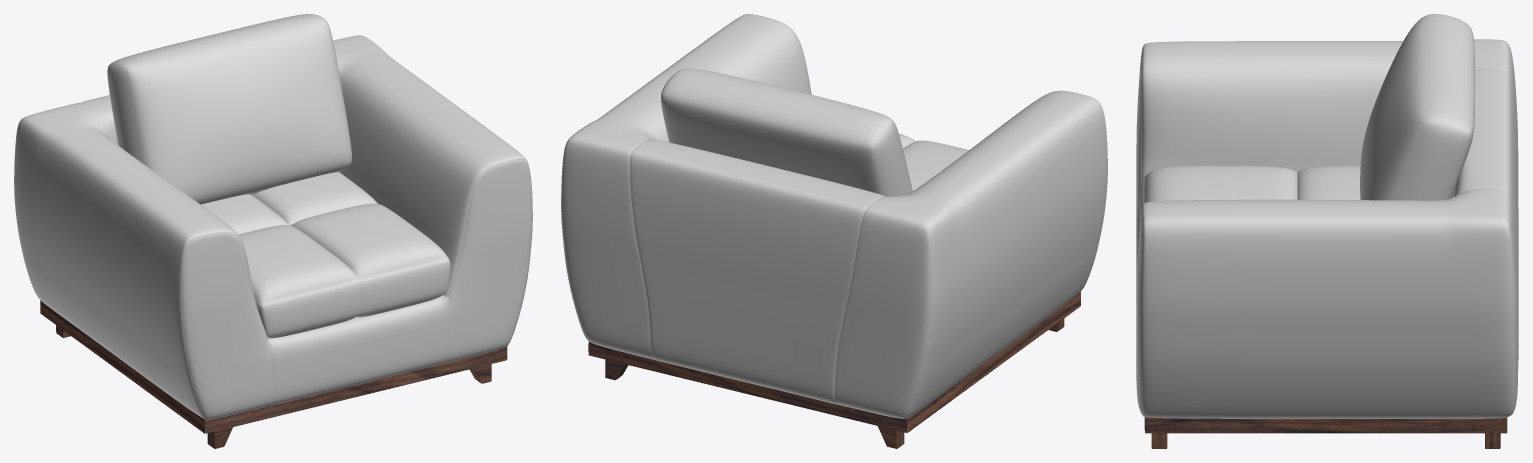
The model's file is SBH_Senart_1Str.glb.
The picture shows the model from 3 angles, left to right: view 1: azimuth 30°, elevation 25°; view 2: azimuth 150°, elevation 25°; view 3: azimuth 270°, elevation 25°; orthographic projection. The views are drawn at different scales.
Parts seen in each view (by area): view 1: Senart 1Str; view 2: Senart 1Str; view 3: Senart 1Str.
Part boxes in pixels (x1=…): Senart 1Str: x1=14, y1=14, x2=532, y2=448; Senart 1Str: x1=561, y1=14, x2=1107, y2=448; Senart 1Str: x1=1136, y1=14, x2=1518, y2=448.
Size of the model in its own units: 1.22 by 0.9217 by 1.03.
2 materials, 1 textured.
